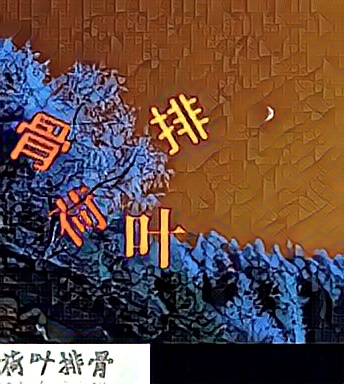B9C7: (11, 110, 76, 175)
BAC9: (46, 183, 111, 248)
C5C5: (149, 93, 214, 158)
D2B6: (120, 204, 185, 269)
